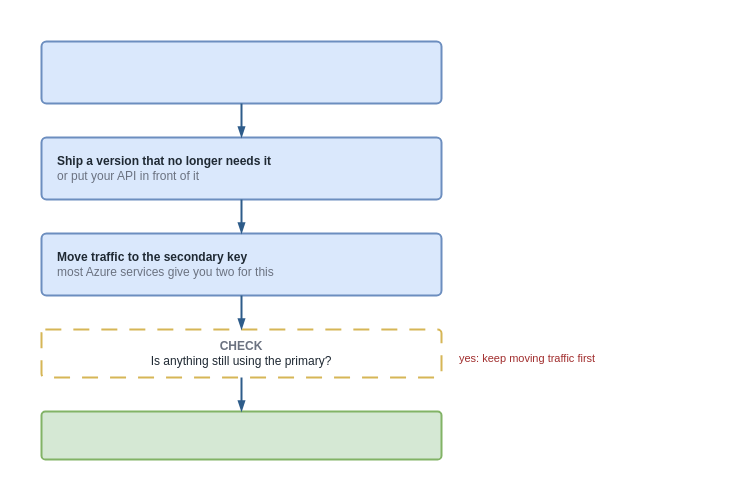
Image size: 748x500. Some labels were removed from this diagram. Each missing label, with the box of its shape:
Check whether the key is being used Azure Monitor logs, grouped by caller IP: (40, 40, 442, 104)
Now regenerate the primary, then the secondary: (40, 410, 442, 460)
